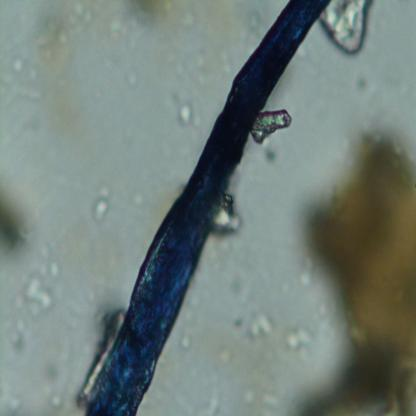Background material: (290, 122, 416, 414), (37, 0, 89, 66), (314, 0, 374, 54), (0, 186, 32, 261), (183, 49, 234, 91), (23, 263, 61, 319), (129, 0, 177, 39), (251, 107, 294, 144), (2, 75, 40, 111), (217, 198, 245, 238), (6, 318, 34, 356), (285, 325, 314, 361), (223, 266, 251, 300), (92, 187, 110, 227), (250, 310, 275, 338), (174, 97, 194, 128), (108, 14, 128, 44), (119, 60, 139, 90), (299, 256, 315, 291), (212, 344, 235, 367), (351, 71, 372, 95), (47, 392, 65, 410), (248, 390, 269, 405), (12, 56, 27, 77), (180, 333, 194, 354)
Cotton: (84, 0, 332, 415)
